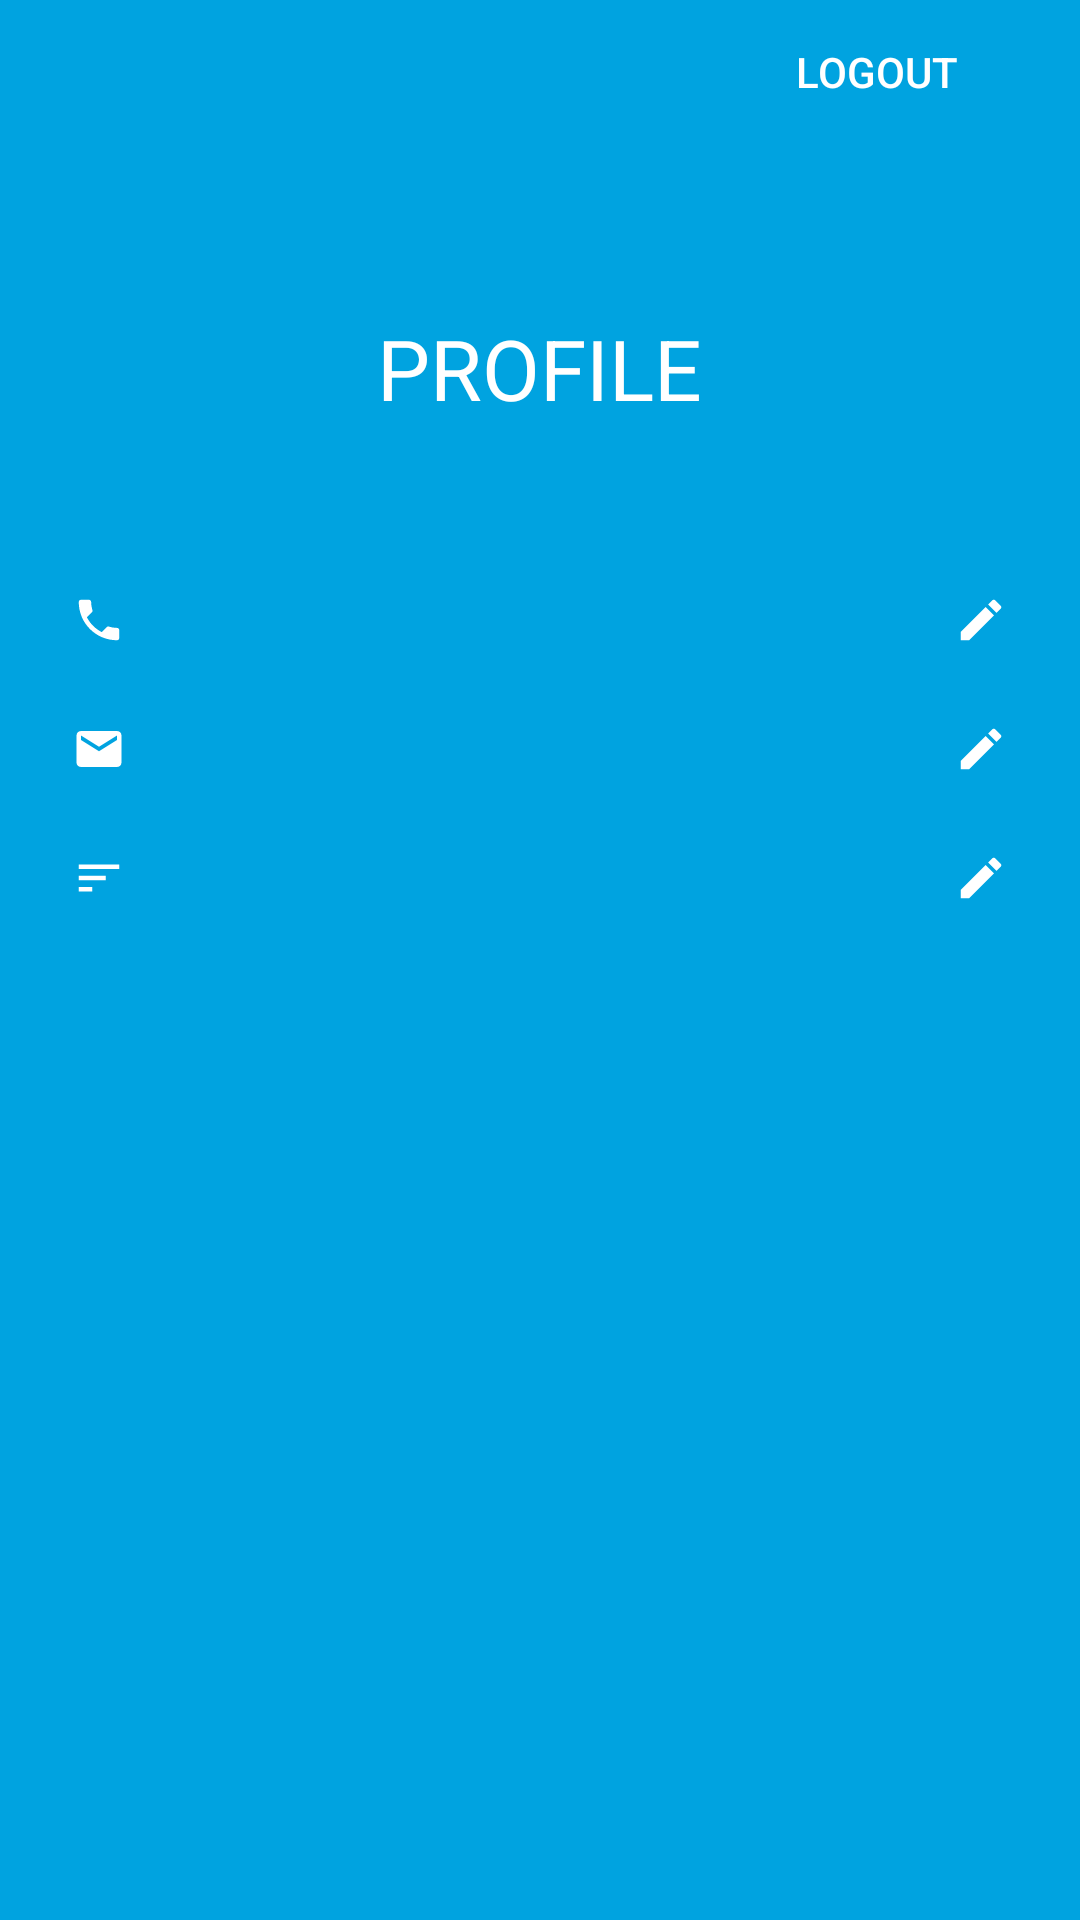

Icon click points for this 1080*1920 phone screenshot, format (x,y):
call: (99,620)
edit: (981,620), (981,749), (981,878)
email: (99,749)
